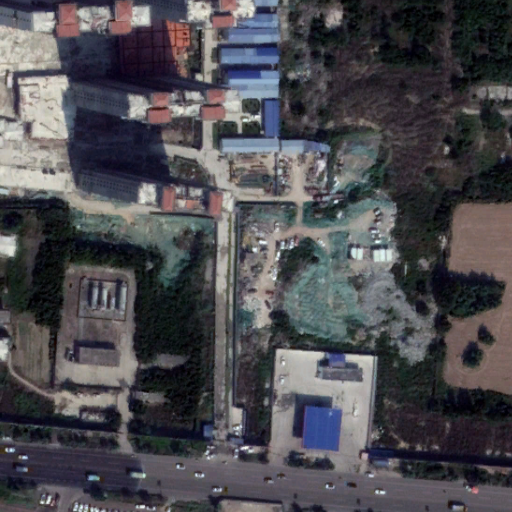cw: (234, 139, 435, 369), (66, 210, 212, 285)
